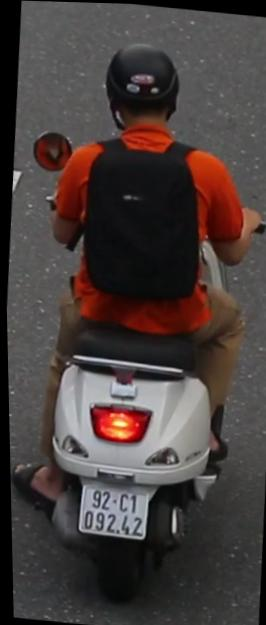LP: (72, 477, 153, 547)
helmet: (98, 33, 188, 146)
